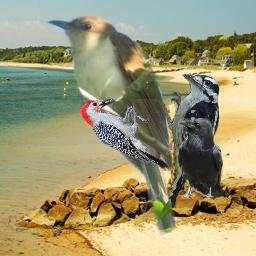Crow: (177, 118, 224, 199)
Cuckoo: (41, 12, 181, 242)
Woodpecker: (155, 72, 228, 208), (81, 99, 169, 171)
